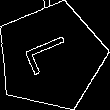L_NE: (21, 33, 81, 80)
